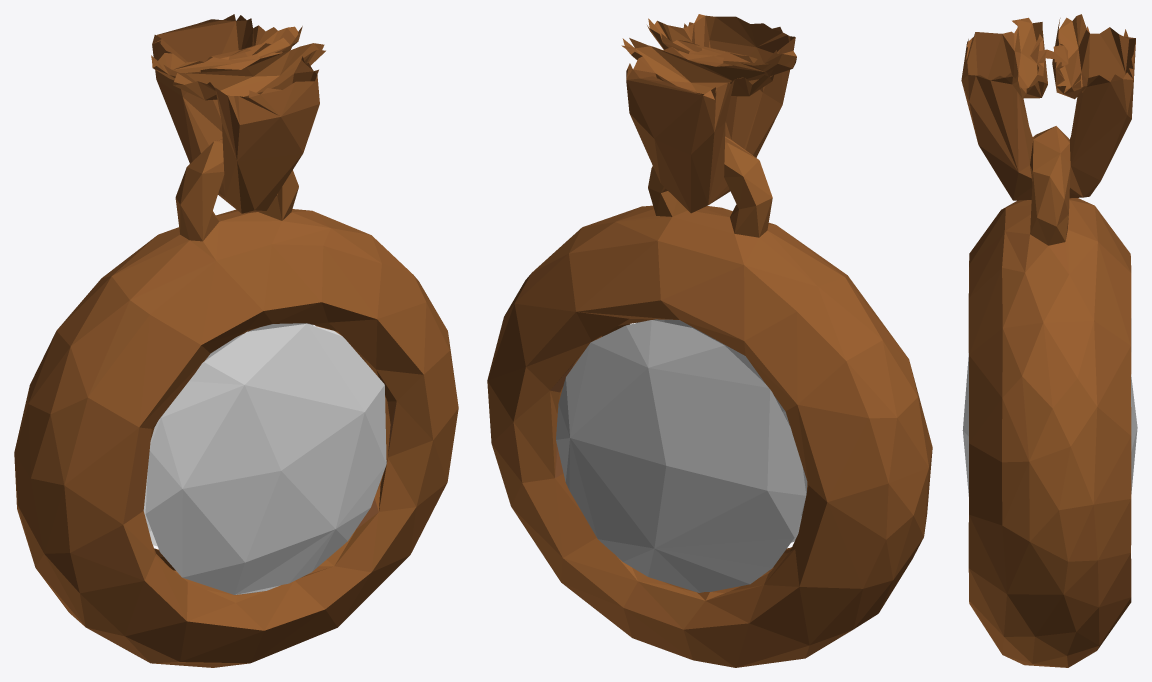
Rendered from aiwpn_amulet.glb.
3 renders of one model, left to right at view 1: azimuth 30°, elevation 25°; view 2: azimuth 150°, elevation 25°; view 3: azimuth 270°, elevation 25°, orthographic.
Parts seen in each view (by area): view 1: ca_aiwpn_amulet; view 2: ca_aiwpn_amulet; view 3: ca_aiwpn_amulet.
Part boxes in pixels (x1=…): ca_aiwpn_amulet: x1=14, y1=14, x2=458, y2=667; ca_aiwpn_amulet: x1=487, y1=14, x2=932, y2=667; ca_aiwpn_amulet: x1=961, y1=14, x2=1137, y2=667.
Size of the model in its own units: 0.2748 by 0.3762 by 0.1007.
